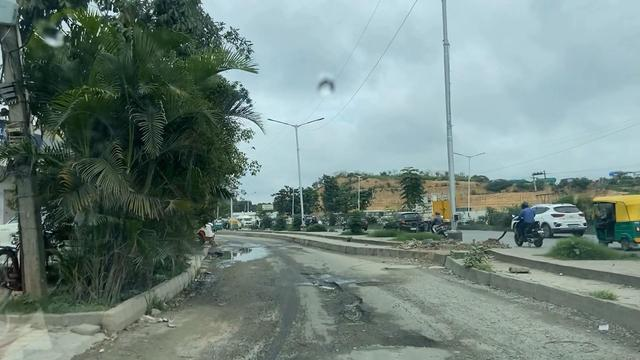RoadDamages: (310, 269, 373, 330), (234, 332, 368, 360), (372, 323, 461, 360)
